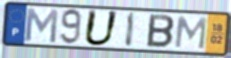9: (57, 8, 83, 46)
B: (145, 13, 176, 50)
I: (123, 11, 137, 49)
M: (24, 6, 60, 45), (173, 15, 209, 51)
U: (82, 9, 121, 48)
